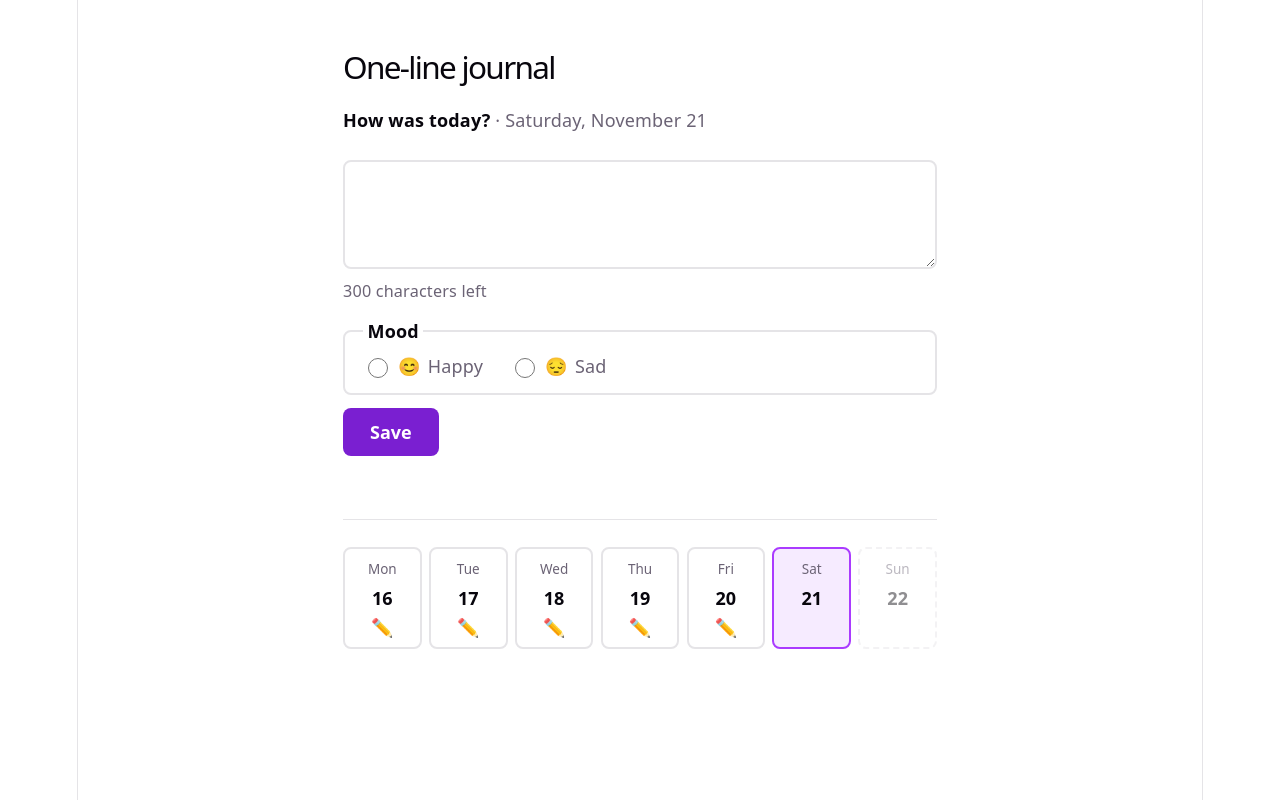
Test: week strip › with the tab-return day change › keeps a chosen past day (and its draft) when returning on a later day
This screenshot has width=1280, height=800.
Expected: the text box labelled "How was today? Saturday, November 21" is enabled, [343,160,937,270]
Step 1. Click the button with aria-label "Tuesday" → {"x": 468, "y": 598}, box [429,547,508,649]
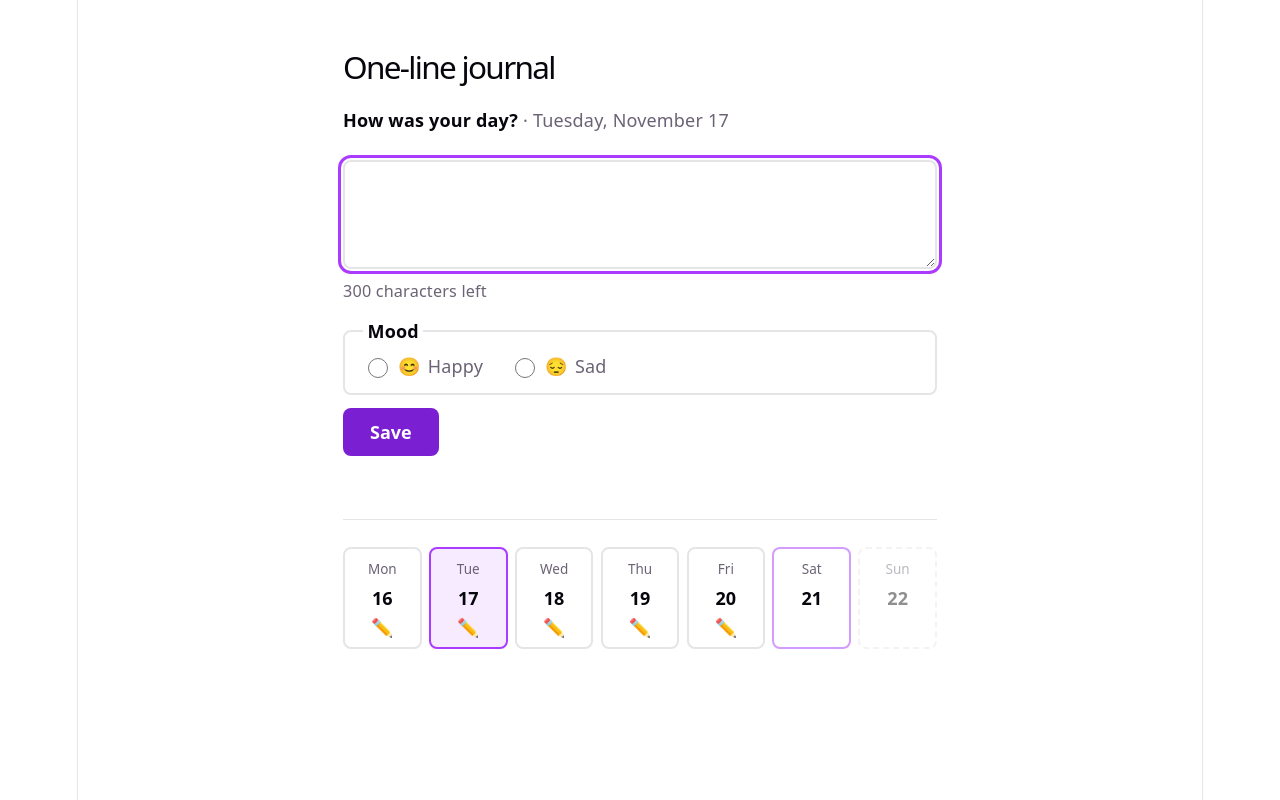
Step 2. Type "tuesday draft" into the text box named "how was today" → {"x": 640, "y": 215}, box [343,160,937,270]
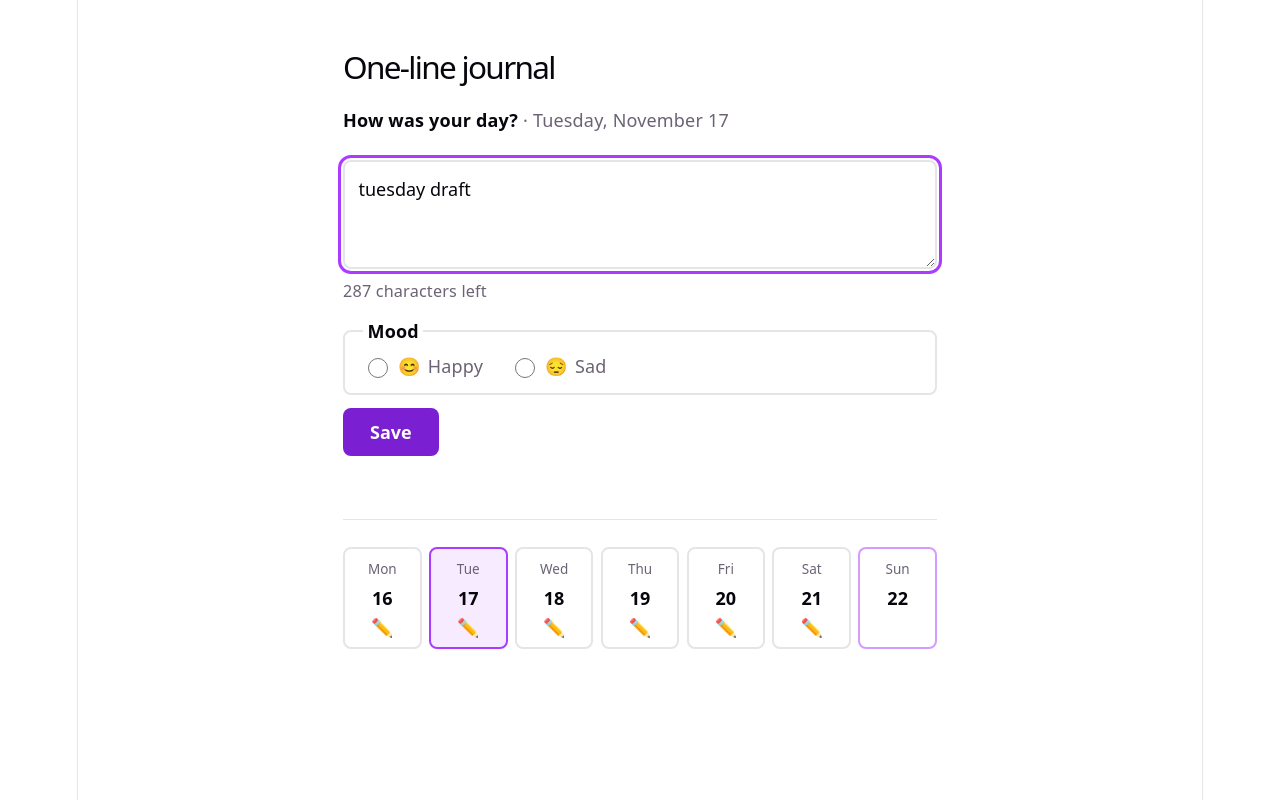
Now the button with aria-label "Sunday, November 22" is enabled, box [858,547,937,649]
